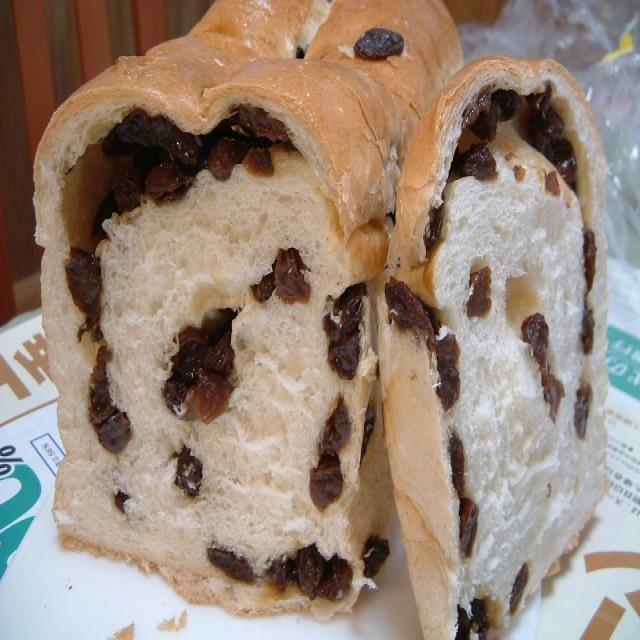面包点心: (30, 0, 616, 640)
